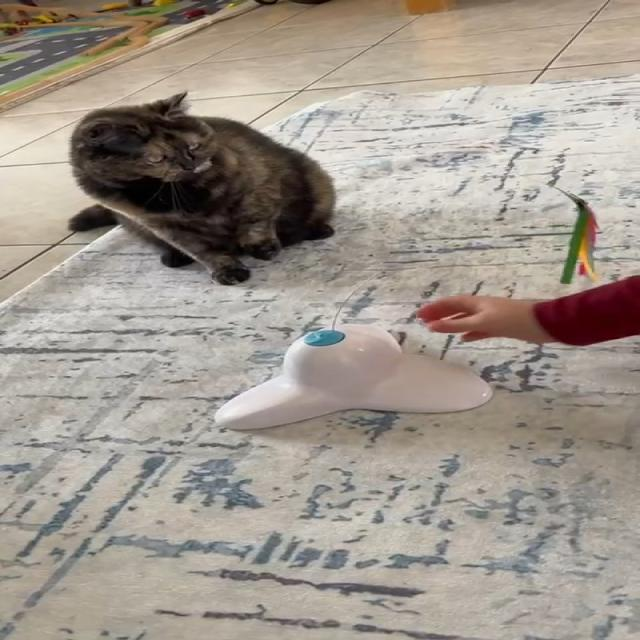authorized: (65, 90, 336, 285)
